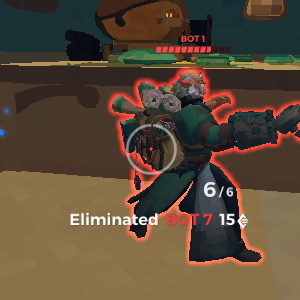model: (102, 58, 300, 267)
